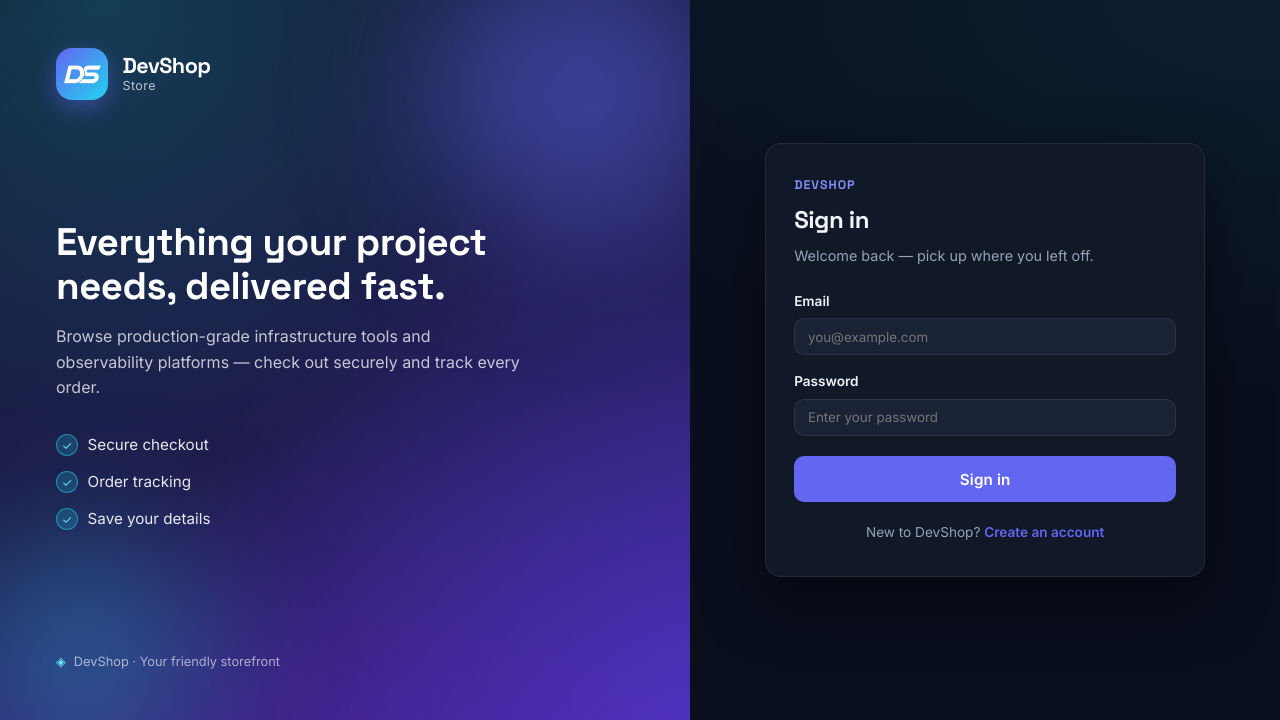
Test case: Login page › shows an error message on failed login
The width and height of the screenshot is (1280, 720).
In the field labelled "Email": [985, 337] box [794,318,1176,355], type "jane@example.com"
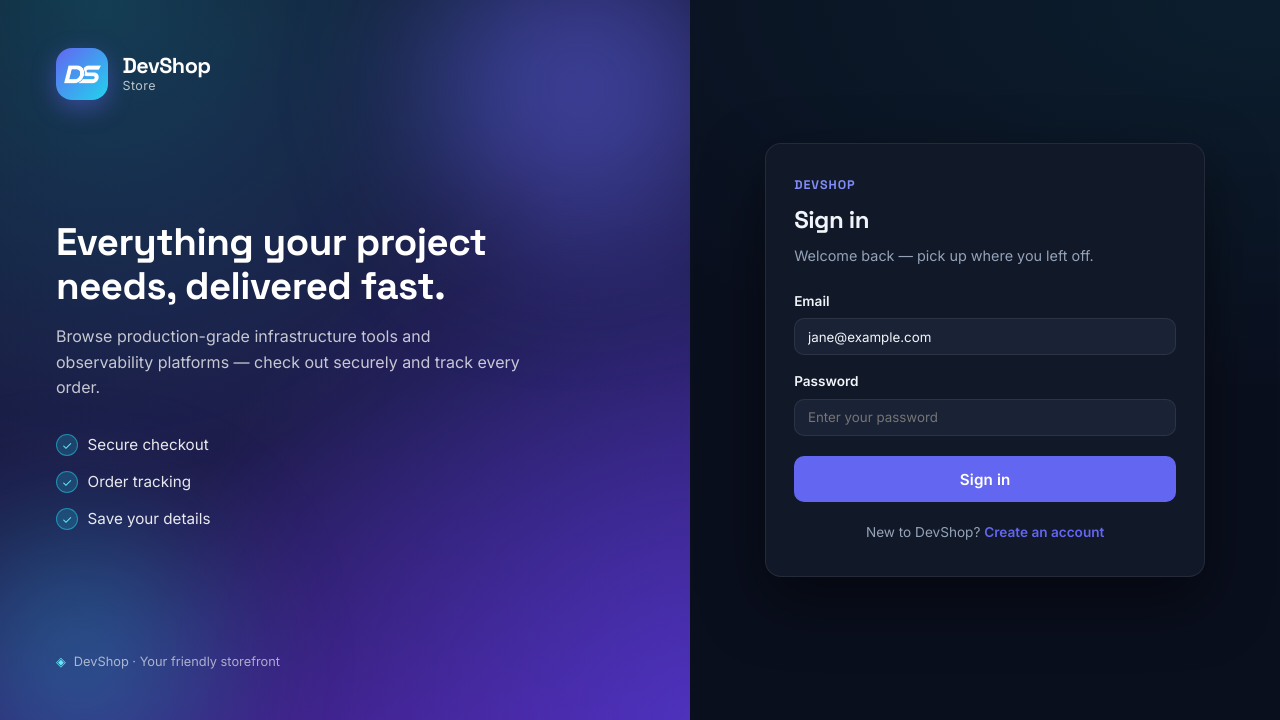
In the password field labelled "Password": [985, 417] box [794,399,1176,436], type "wrongpass"
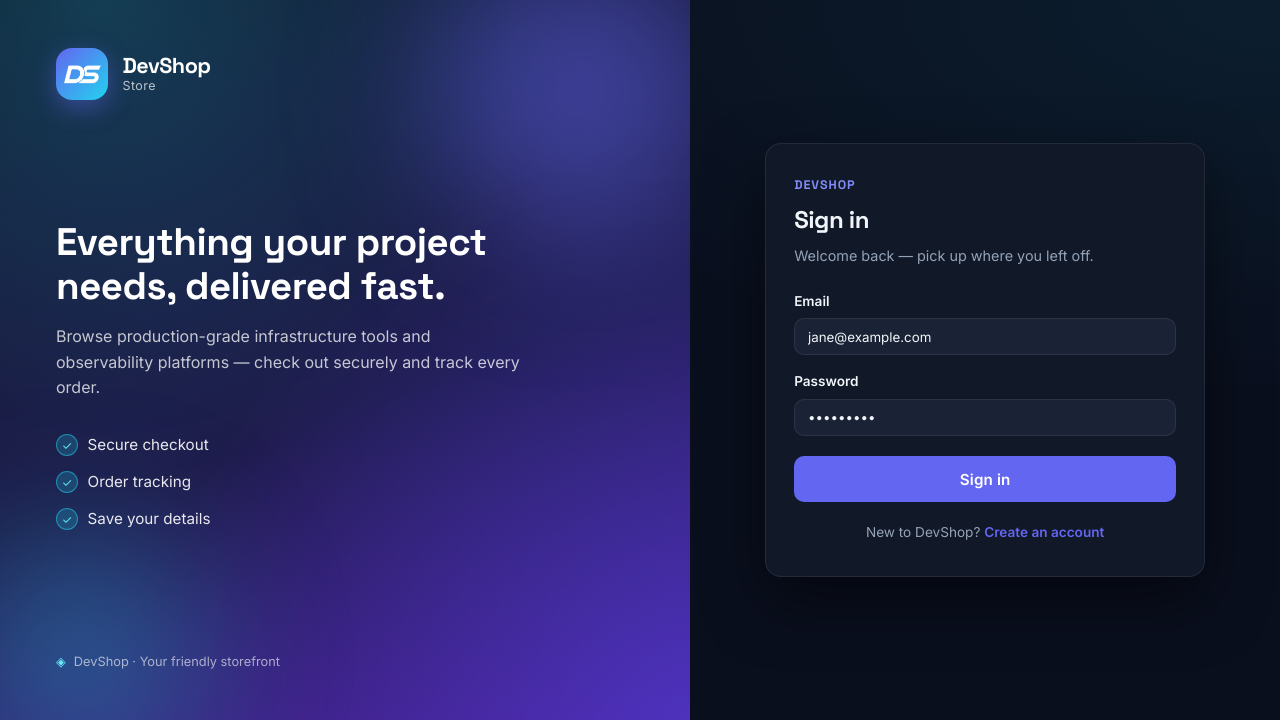
Click the button "Sign in": [985, 479] box [794,456,1176,502]
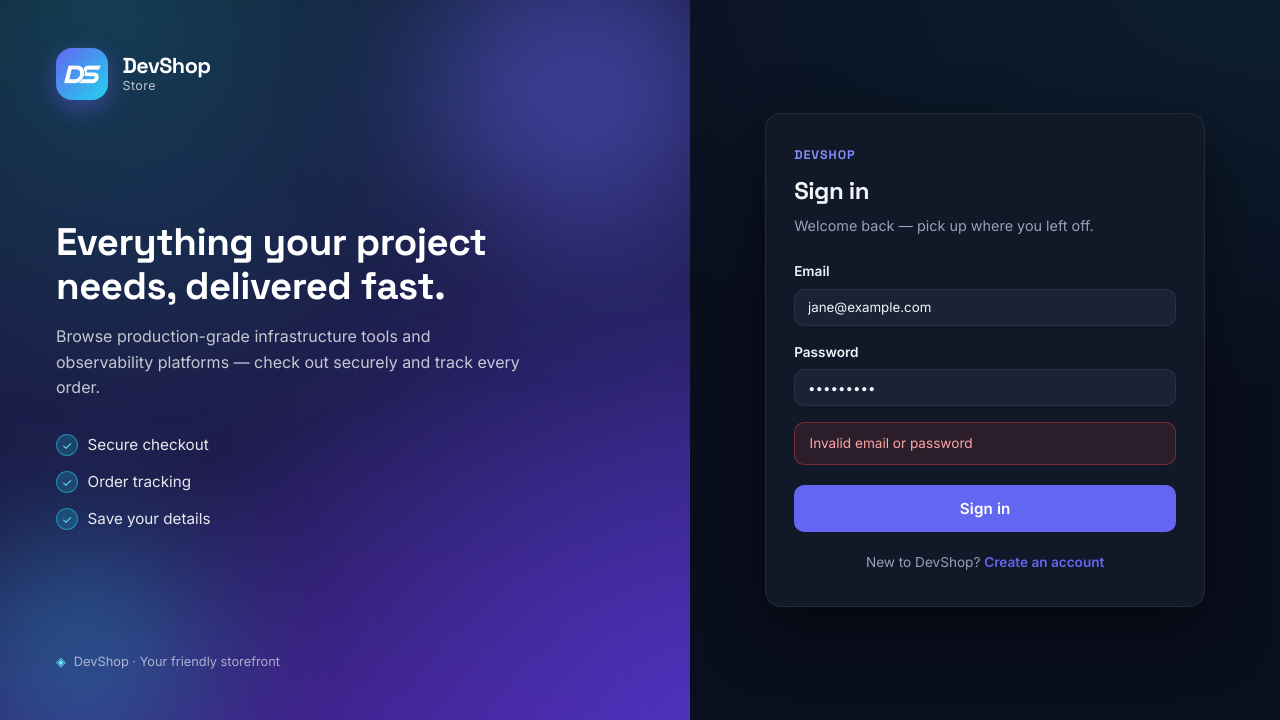
Expected: the text "Invalid email or password" is shown, [794,422,1176,465]
